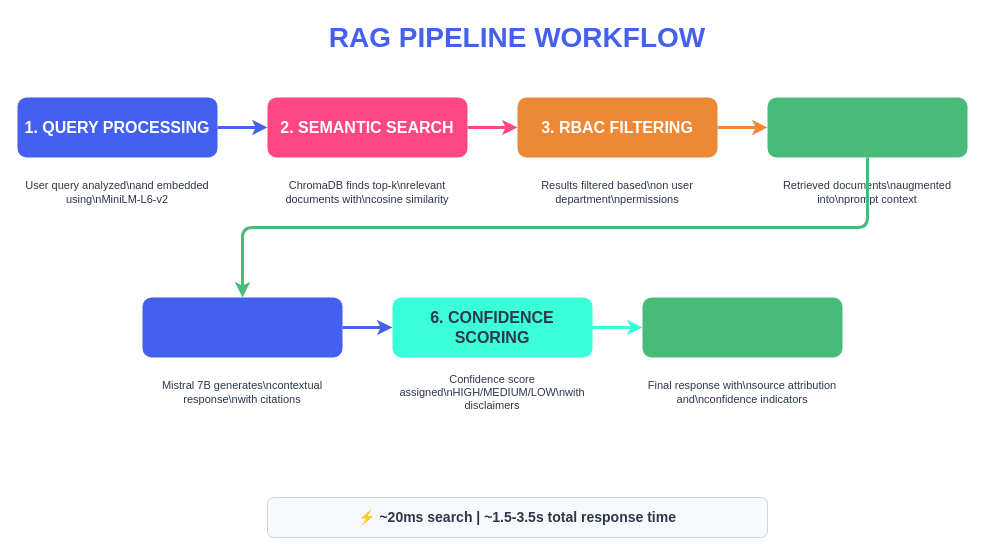
Image size: 984x555. Some labels were removed from this diagram. The shapes that lost their labels are listed below. From the top down, each one's box as (x1, y1, x2, y2) in pixels, then its label:
(767, 97, 967, 157): 4. CONTEXT BUILDING
(142, 297, 342, 357): 5. LLM GENERATION
(642, 297, 842, 357): 7. RESPONSE TO USER
